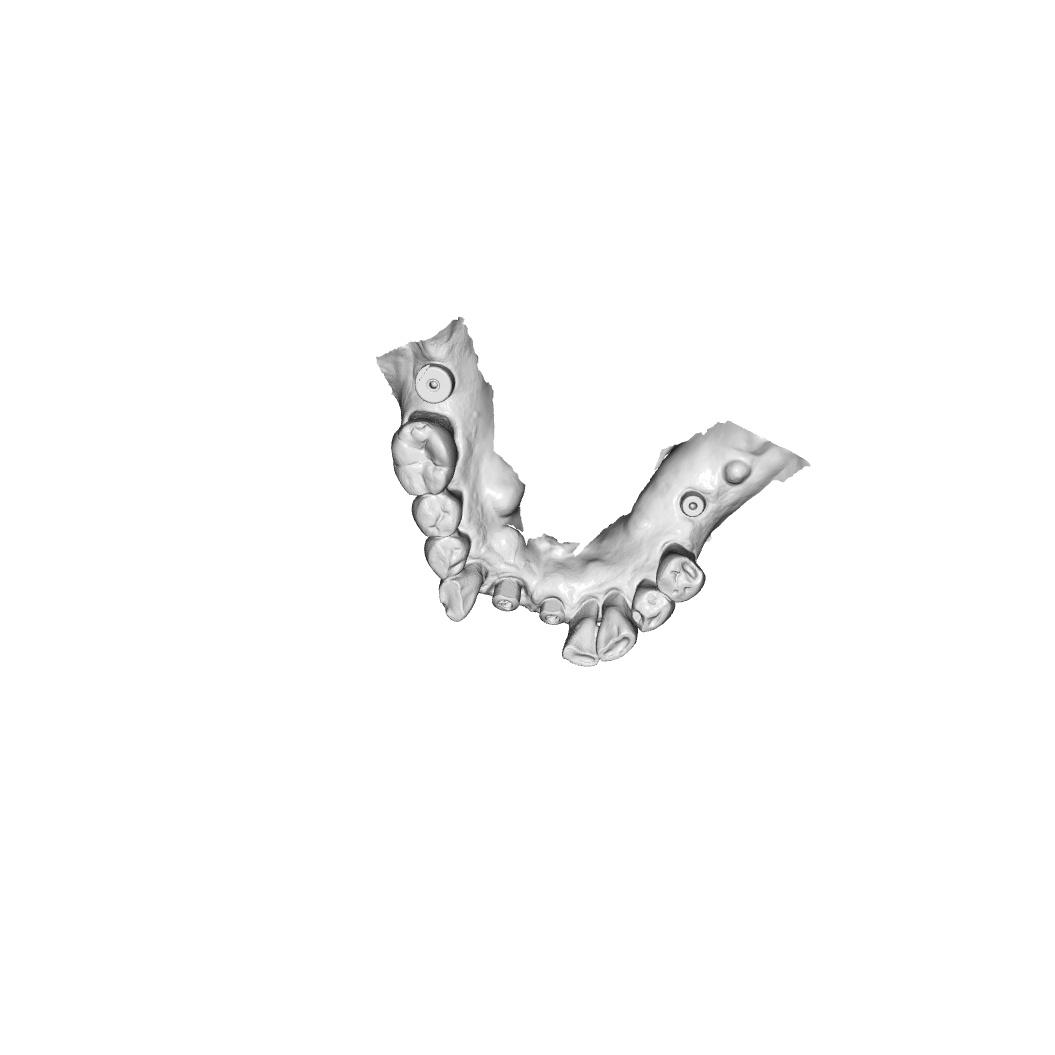canine: (437, 561, 488, 623), (595, 602, 640, 664)
implant: (414, 363, 456, 406), (491, 578, 523, 613), (676, 489, 710, 520), (537, 596, 566, 626)
incisor: (561, 615, 601, 667)
molar: (389, 414, 460, 497)
premolar: (655, 549, 707, 604), (629, 577, 676, 633), (410, 491, 464, 538), (423, 531, 472, 579)
